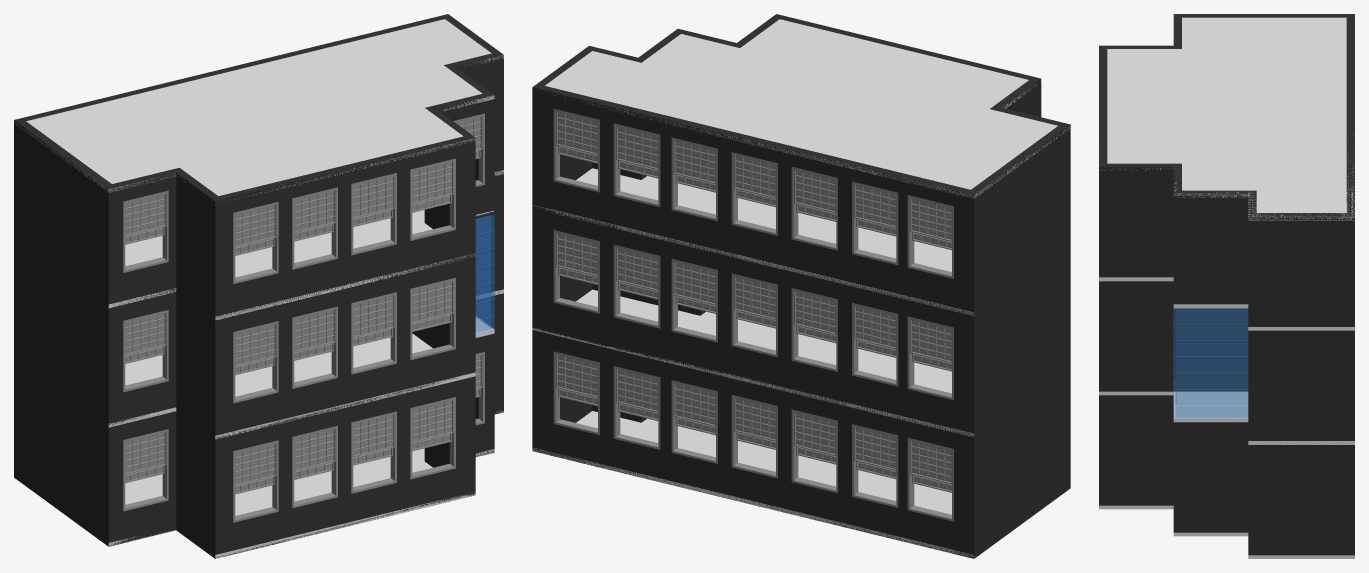
The model's file is apartment_4.fbx.
The picture shows the model from 3 angles, left to right: view 1: azimuth 30°, elevation 25°; view 2: azimuth 150°, elevation 25°; view 3: azimuth 270°, elevation 25°; orthographic projection. The views are drawn at different scales.
Parts seen in each view (by area): view 1: Line006, Line007, Line001, Line004, Line003, Line002, Line005, SlidingWindow002, SlidingWindow031, SlidingWindow003, SlidingWindow015, SlidingWindow016 (+13 smaller); view 2: Line006, Line007, Line004, Line001, Line002, Line005, Line003, SlidingWindow008, SlidingWindow019, SlidingWindow032, SlidingWindow011, SlidingWindow024 (+16 smaller); view 3: Line007, Line006, Line001, Line004, Rectangle001, Line003, Line005, Line002.
Part boxes in pixels (x1,y1,x2,y2): Line006: [14, 14, 503, 320]; Line007: [14, 19, 503, 204]; Line001: [14, 293, 503, 558]; Line004: [14, 174, 503, 439]; Line003: [108, 289, 503, 439]; Line002: [108, 410, 503, 558]; Line005: [108, 170, 503, 319]; SlidingWindow002: [233, 440, 278, 522]; SlidingWindow031: [123, 190, 168, 272]; SlidingWindow003: [292, 426, 337, 508]; SlidingWindow015: [410, 277, 455, 360]; SlidingWindow016: [292, 306, 337, 388]; Line006: [532, 14, 1070, 315]; Line007: [538, 19, 1070, 198]; Line004: [532, 208, 1070, 437]; Line001: [532, 330, 1070, 558]; Line002: [532, 411, 974, 558]; Line005: [533, 168, 974, 315]; Line003: [532, 289, 974, 437]; SlidingWindow008: [613, 366, 660, 449]; SlidingWindow019: [613, 244, 660, 328]; SlidingWindow032: [613, 123, 660, 207]; SlidingWindow011: [791, 409, 837, 493]; SlidingWindow024: [852, 302, 898, 386]; Line007: [1100, 17, 1354, 220]; Line006: [1099, 14, 1354, 326]; Line001: [1099, 395, 1354, 555]; Line004: [1099, 281, 1354, 440]; Rectangle001: [1173, 298, 1248, 418]; Line003: [1099, 391, 1354, 444]; Line005: [1099, 277, 1354, 330]; Line002: [1099, 505, 1354, 558].
Bounding box in the file's own units: 450 × 354 × 240.
